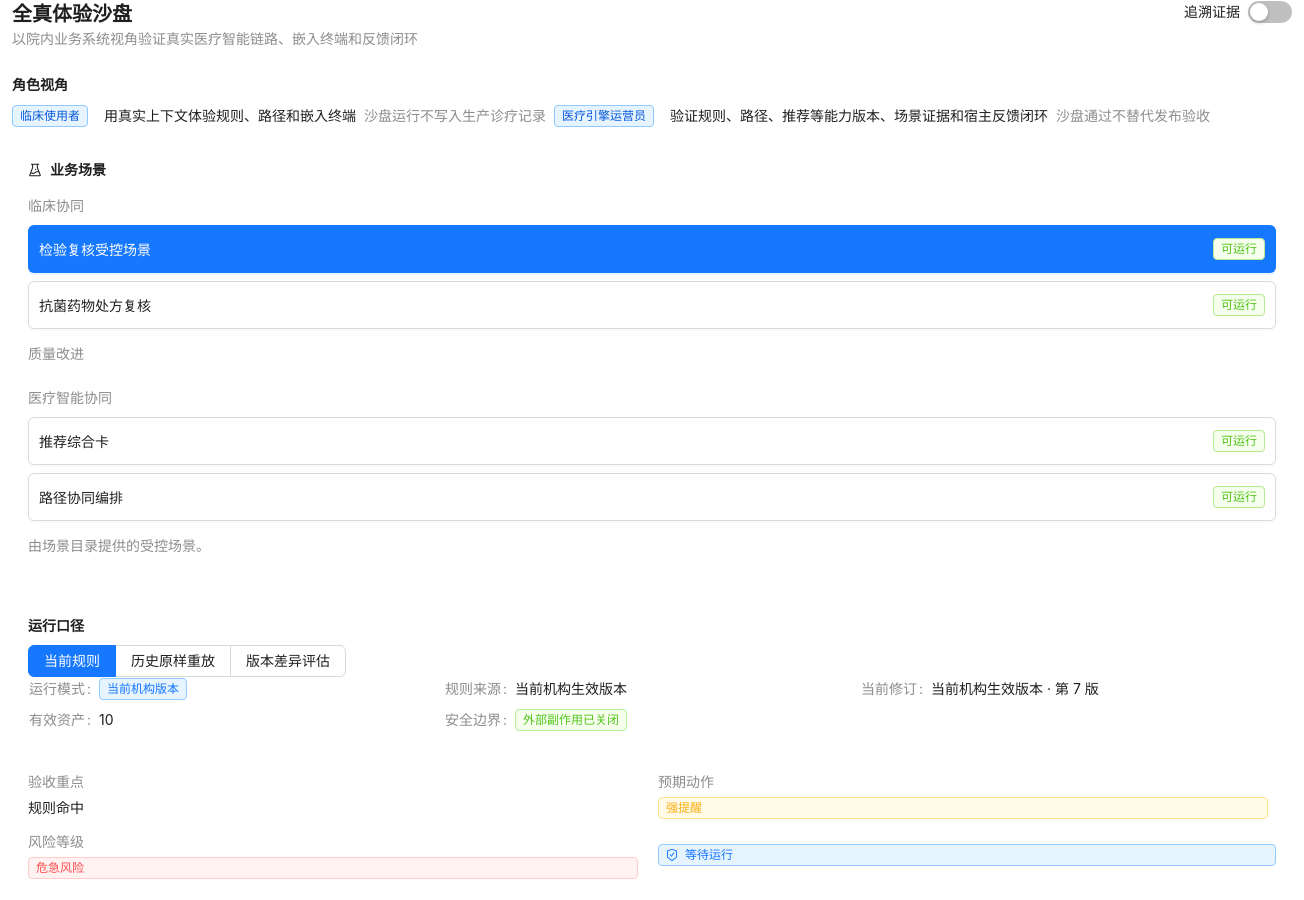
Test: SandboxHost › uses clinical pathway wording instead of engine terminology
Click the button "路径协同编排 可运行": (81, 498) [28,473,1276,521]
(page scrolled)
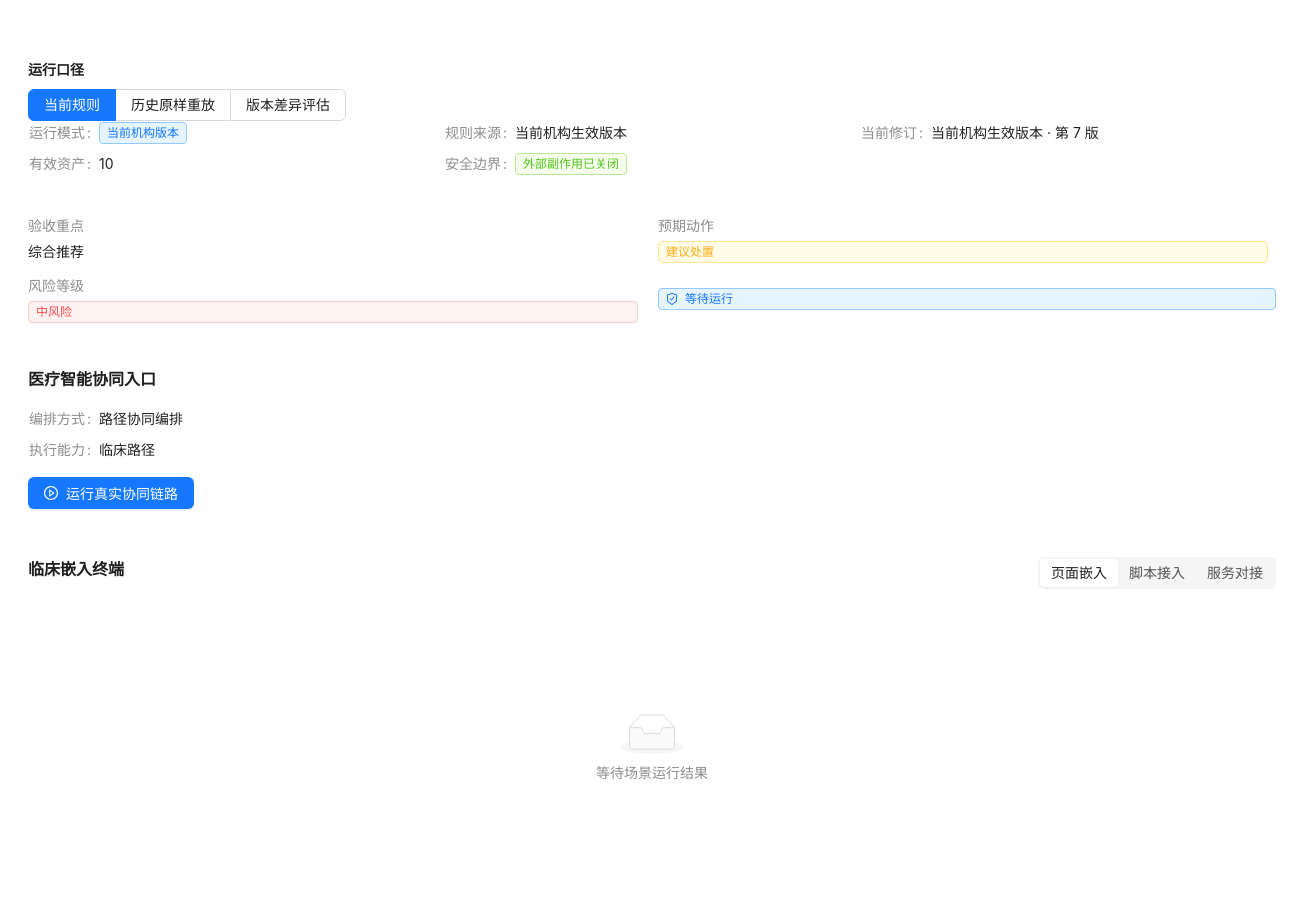
Expected: the text "临床路径" is shown, [99,441,155,458]
